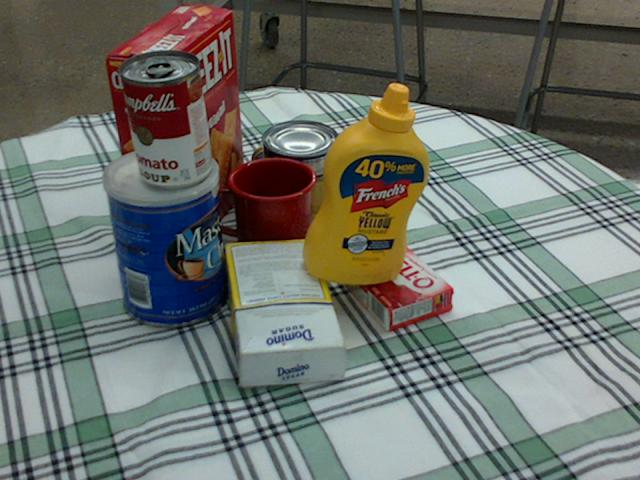cracker_box: (104, 6, 244, 255)
gelatin_box: (343, 246, 452, 332)
master_chef_can: (100, 146, 228, 328)
mug: (204, 156, 315, 261)
mustard_bottle: (302, 82, 428, 284)
potted_meat_can: (247, 140, 341, 217)
sugar_box: (224, 238, 348, 385)
tomato_soup_can: (119, 49, 211, 186)
tuna_fish_can: (260, 121, 337, 182)
